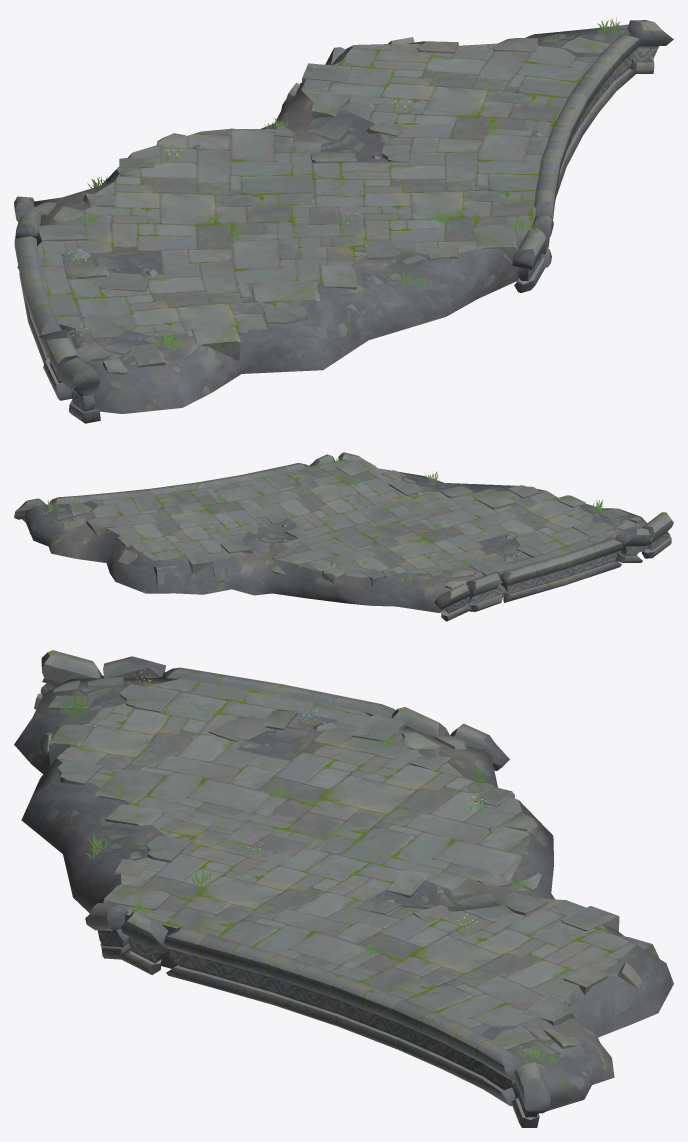
The model's file is Area_MdBuild_SdBridge10_Group.fbx.
3 views of the same model, one above another, from view 1: azimuth 30°, elevation 25°; view 2: azimuth 150°, elevation 25°; view 3: azimuth 270°, elevation 25° (orthographic). The views are drawn at different scales.
Visible parts, largest first — view 1: Area_MdBuild_SdBridge10_Lod0; view 2: Area_MdBuild_SdBridge10_Lod0; view 3: Area_MdBuild_SdBridge10_Lod0.
Part boxes in pixels (x1,y1,x2,y2): Area_MdBuild_SdBridge10_Lod0: (14, 20, 673, 423); Area_MdBuild_SdBridge10_Lod0: (14, 452, 673, 621); Area_MdBuild_SdBridge10_Lod0: (14, 650, 673, 1127).
Bounding box in the file's own units: 37.43 × 3 × 24.21.
Materials: 6 (6 with a texture image).
